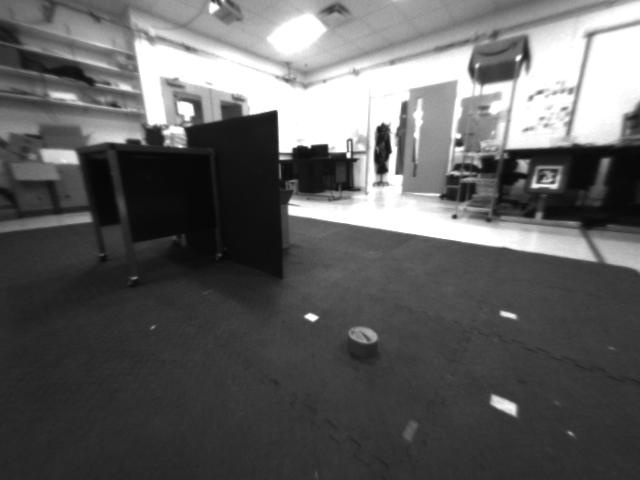dogtoy: (329, 315, 397, 372)
